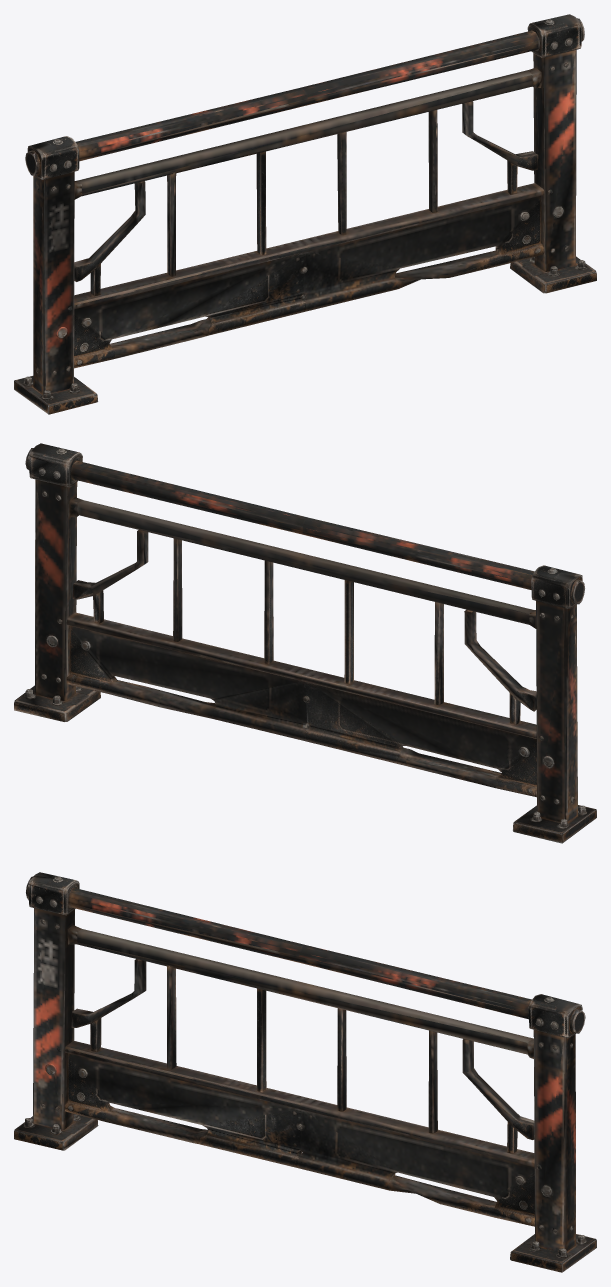
The model's file is fence.glb.
The picture shows the model from 3 angles, top to bottom: view 1: azimuth 30°, elevation 25°; view 2: azimuth 150°, elevation 25°; view 3: azimuth 330°, elevation 25°; orthographic projection.
Parts seen in each view (by area): view 1: Mesh_0; view 2: Mesh_0; view 3: Mesh_0.
Part boxes in pixels (<box>): Mesh_0: <box>14,14,596,414</box>; Mesh_0: <box>14,443,596,843</box>; Mesh_0: <box>14,872,596,1272</box>.
Size of the model in its own units: 2.4 by 1.07 by 0.2691.
1 material, 1 textured.
